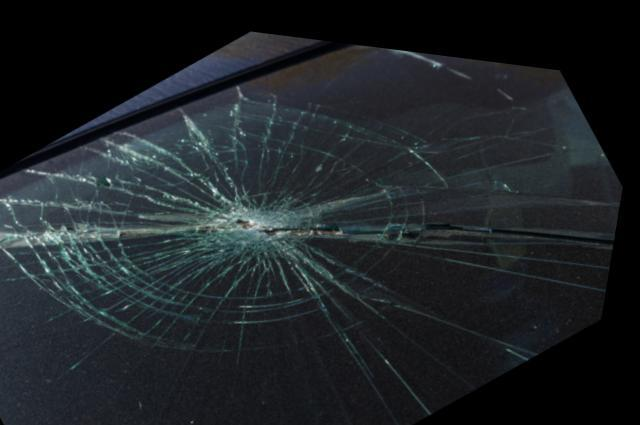glass shatter: (0, 34, 626, 425)
